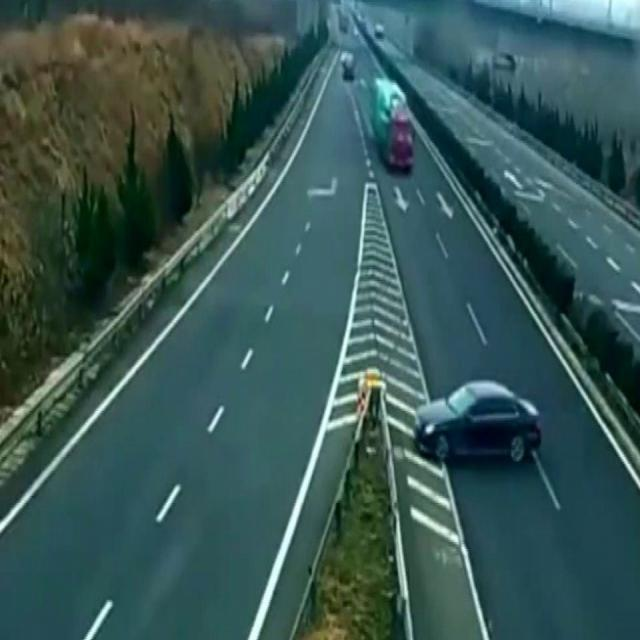point: (293, 0, 445, 165)
